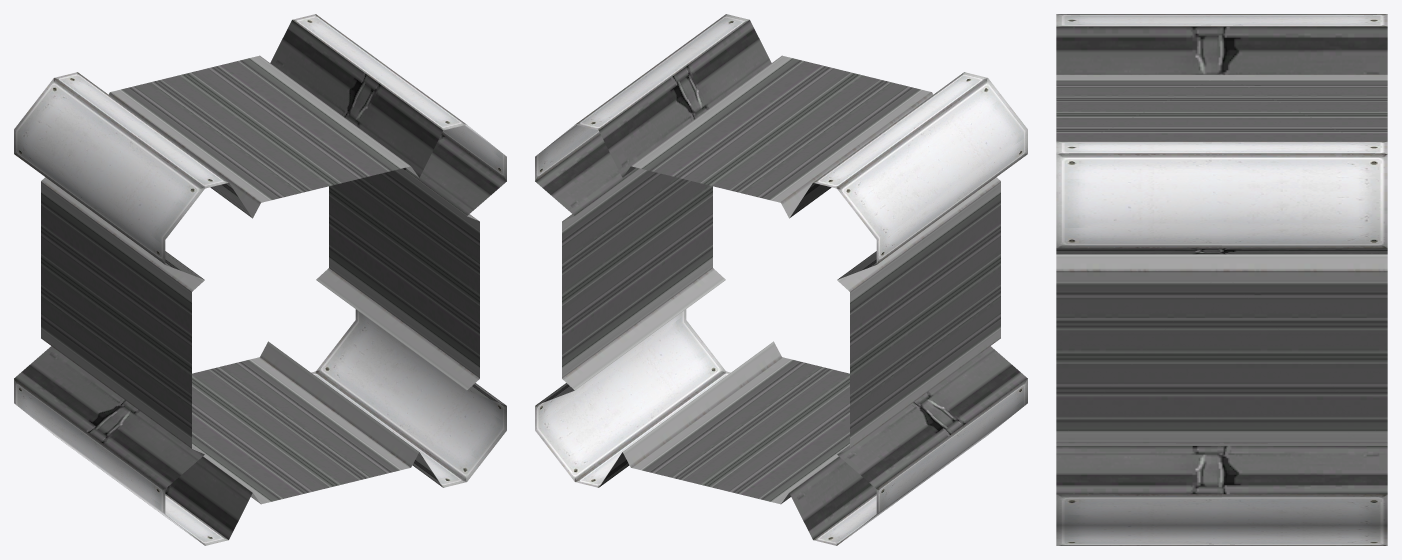
File: CeilingBrace_1x1.FBX
3 renders of one model, left to right at view 1: azimuth 30°, elevation 25°; view 2: azimuth 150°, elevation 25°; view 3: azimuth 270°, elevation 25°, orthographic. The views are drawn at different scales.
Parts seen in each view (by area): view 1: CeilingBrace_1x1; view 2: CeilingBrace_1x1; view 3: CeilingBrace_1x1.
Boxes of the visible parts, bbox=[...] form: CeilingBrace_1x1: bbox=[14, 14, 506, 545]; CeilingBrace_1x1: bbox=[535, 14, 1027, 545]; CeilingBrace_1x1: bbox=[1056, 14, 1387, 545].
Size of the model in its own units: 1.3 by 1.3 by 1.
